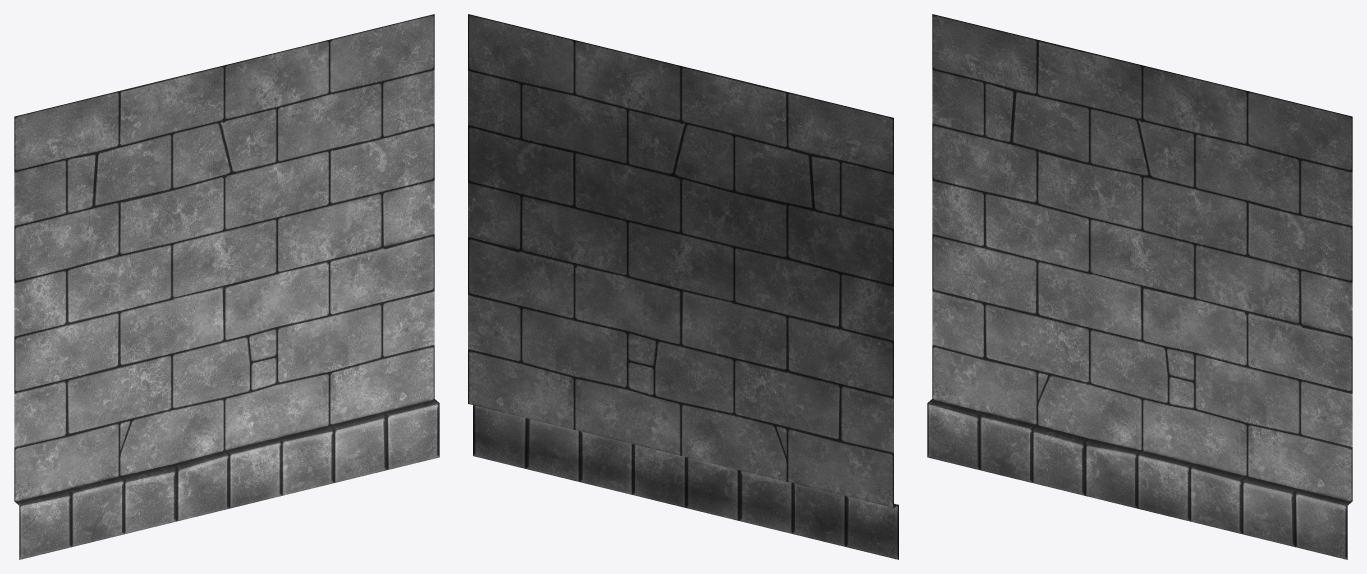
Rendered from wall_A.fbx.
3 renders of one model, left to right at view 1: azimuth 30°, elevation 25°; view 2: azimuth 150°, elevation 25°; view 3: azimuth 330°, elevation 25°, orthographic.
Visible parts, largest first — view 1: wall_A; view 2: wall_A; view 3: wall_A.
Boxes of the visible parts, box(x1,y1,x2,y2) form: wall_A: box(14, 14, 439, 559); wall_A: box(468, 14, 898, 559); wall_A: box(927, 14, 1352, 559).
Bounding box in the file's own units: 200 × 200 × 4.
